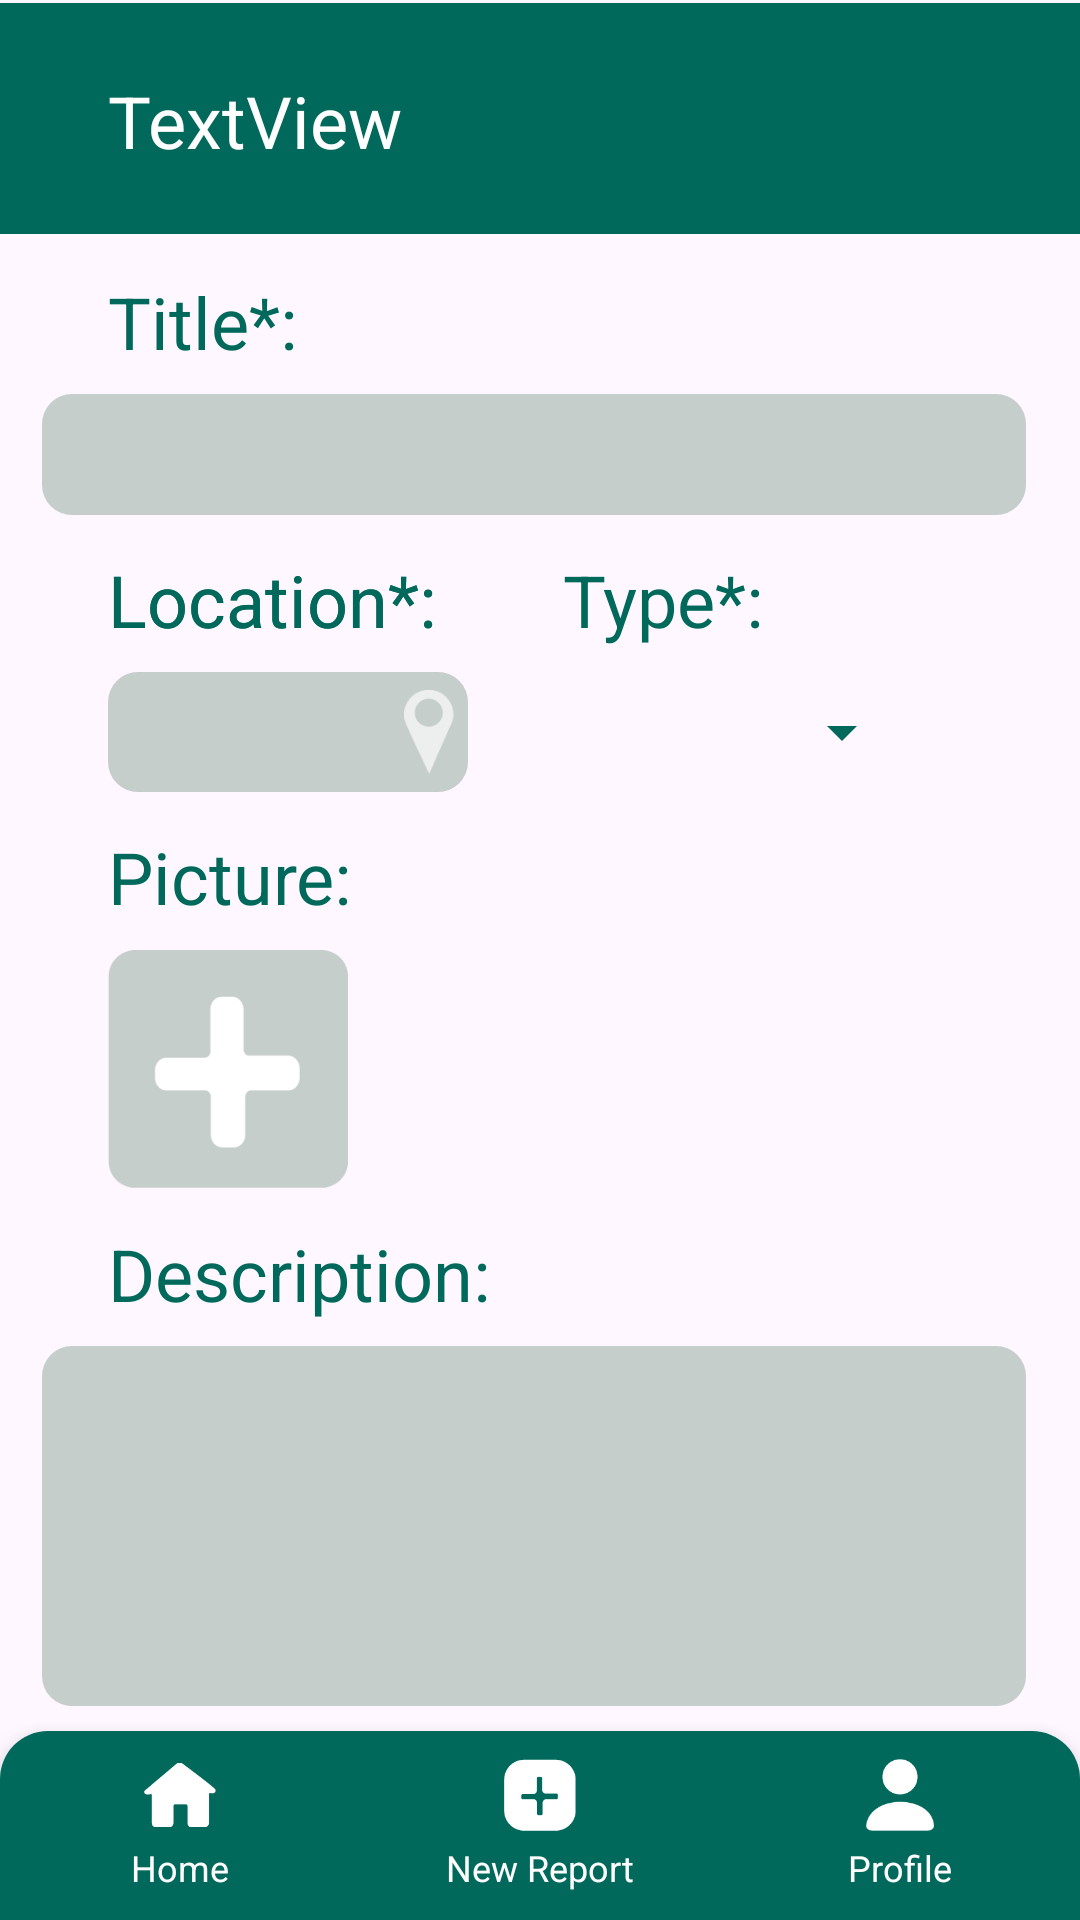

Screen size 1080 × 1920. Icon name, then its box in pixels as (x1,y1,x2,y2):
add photo: (109,950,348,1188)
